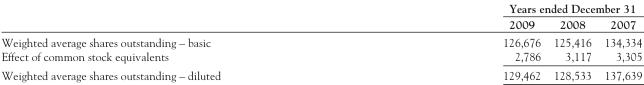table: (0, 1, 641, 81)
table column: (0, 1, 361, 81), (361, 1, 546, 81), (546, 1, 597, 81), (597, 1, 641, 81)
table column header: (0, 1, 641, 32)
table row: (0, 15, 641, 32), (0, 48, 641, 65), (0, 32, 641, 48), (0, 65, 641, 81), (0, 1, 641, 15)
table spanning cell: (361, 1, 641, 15)
